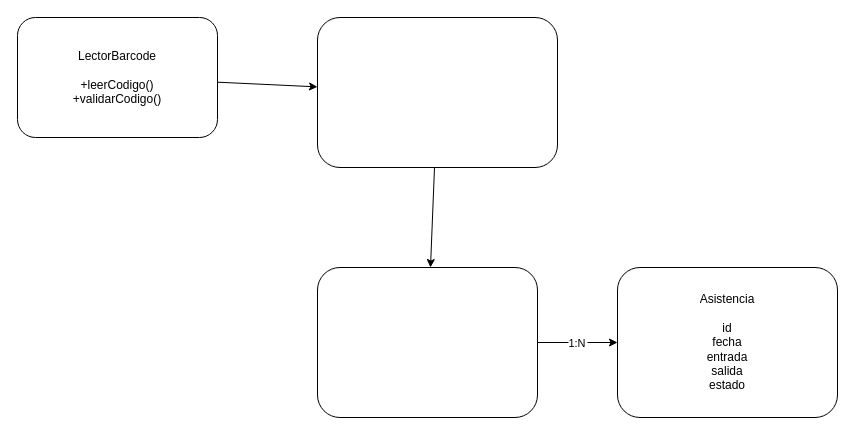
The diagram is 855 pixels wide and 435 high, and some of its shapes have lost their labels. The centre of each missing label's shape, as x and y in pixels:
"ControlAsistencia +buscarEmpleado() +registrarEntrada() +registrarSalida()" belongs at [437,92].
"Empleado id nombres apellidos cedula codigoBarra" belongs at [427,342].
